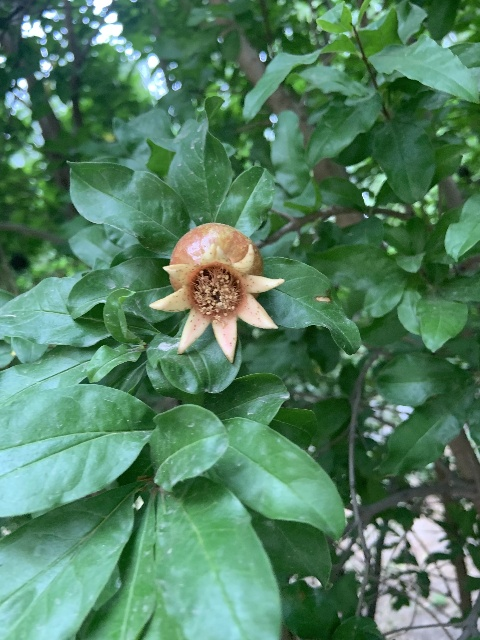early-fruit: (148, 222, 284, 364)
